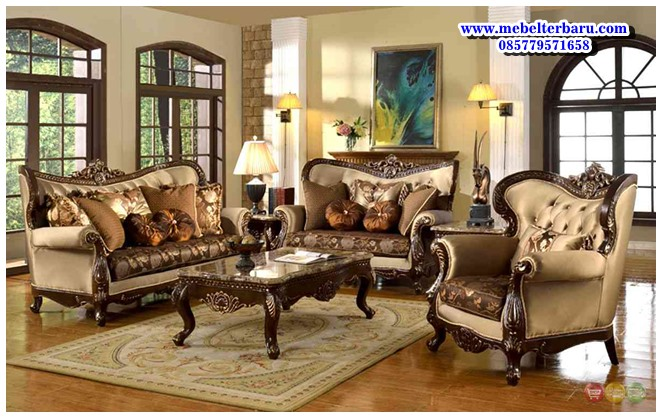Carving Chair: (433, 176, 632, 385)
Carving Table: (163, 246, 378, 390)
